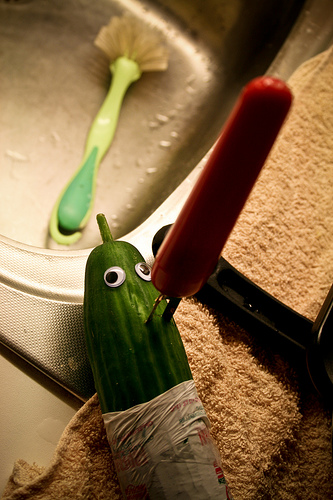cucumber: (83, 214, 234, 498)
